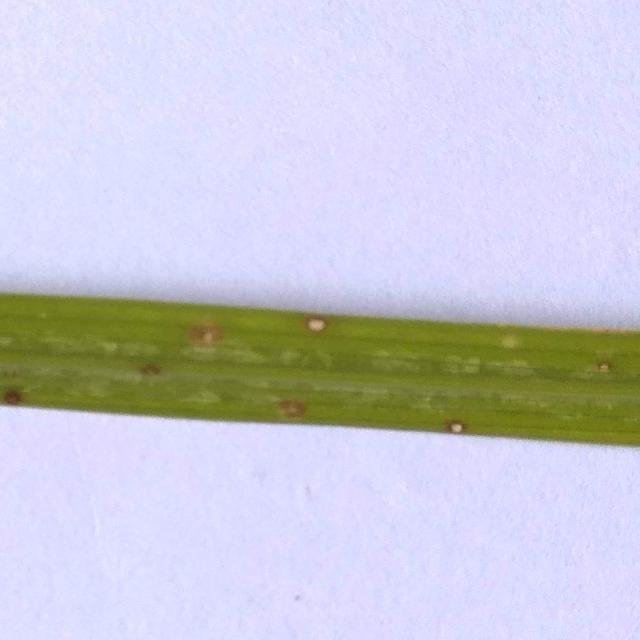Blast: (442, 420, 480, 435), (196, 326, 221, 346), (278, 398, 304, 417), (301, 314, 328, 332), (140, 360, 162, 378), (595, 356, 614, 374), (4, 388, 24, 404)
